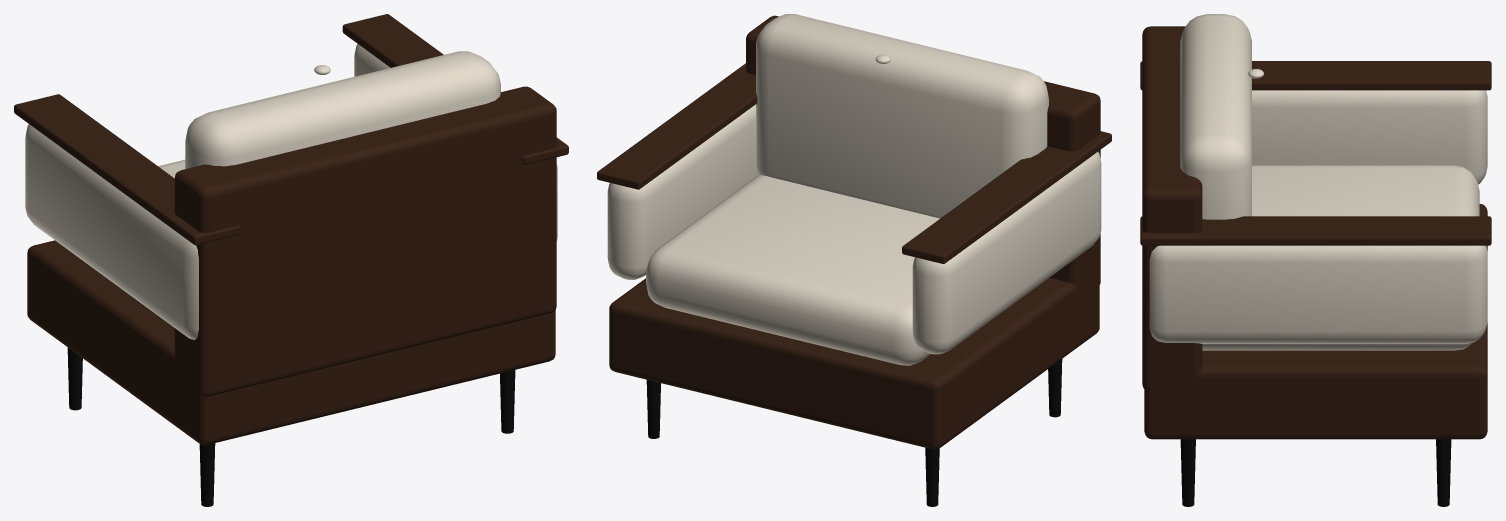
The model's file is modern_armchair.obj.
3 renders of one model, left to right at view 1: azimuth 30°, elevation 25°; view 2: azimuth 150°, elevation 25°; view 3: azimuth 270°, elevation 25°, orthographic. The views are drawn at different scales.
Visible parts, largest first — view 1: back, base, back_cushion, arm, arm_cap, arm_cap.001, leg.001, leg.003, leg, arm.001; view 2: back_cushion, base, seat, arm, arm.001, arm_cap, arm_cap.001, back, leg, leg.002, leg.001; view 3: arm.001, base, arm, seat, back_cushion, back, arm_cap.001, arm_cap, leg.002, leg.003.
Boxes of the visible parts, x1=… form: back: x1=174, y1=86, x2=556, y2=396; base: x1=27, y1=240, x2=555, y2=445; back_cushion: x1=185, y1=51, x2=500, y2=168; arm: x1=25, y1=124, x2=198, y2=339; arm_cap: x1=14, y1=94, x2=240, y2=245; arm_cap.001: x1=342, y1=14, x2=568, y2=164; leg.001: x1=199, y1=443, x2=215, y2=506; leg.003: x1=500, y1=370, x2=515, y2=433; leg: x1=67, y1=347, x2=82, y2=410; arm.001: x1=354, y1=44, x2=557, y2=241; back_cushion: x1=756, y1=14, x2=1048, y2=218; base: x1=609, y1=274, x2=1099, y2=449; seat: x1=646, y1=175, x2=939, y2=365; arm: x1=912, y1=152, x2=1101, y2=354; arm.001: x1=607, y1=104, x2=758, y2=279; arm_cap: x1=902, y1=131, x2=1111, y2=263; arm_cap.001: x1=597, y1=63, x2=757, y2=189; back: x1=746, y1=15, x2=1100, y2=297; leg: x1=925, y1=447, x2=939, y2=506; leg.002: x1=646, y1=380, x2=660, y2=438; leg.001: x1=1048, y1=359, x2=1062, y2=417; arm.001: x1=1149, y1=245, x2=1487, y2=343; base: x1=1144, y1=204, x2=1487, y2=439; arm: x1=1252, y1=90, x2=1487, y2=184; seat: x1=1202, y1=165, x2=1479, y2=350; back_cushion: x1=1180, y1=14, x2=1251, y2=219; back: x1=1142, y1=26, x2=1202, y2=390; arm_cap.001: x1=1140, y1=216, x2=1491, y2=245; arm_cap: x1=1140, y1=61, x2=1491, y2=90; leg.002: x1=1436, y1=439, x2=1451, y2=506; leg.003: x1=1180, y1=439, x2=1195, y2=506.
Bounding box in the file's own units: 1.05 × 1 × 0.88.
